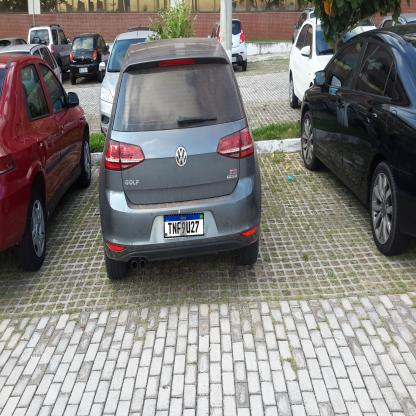PlacaM: (164, 213, 204, 238)
